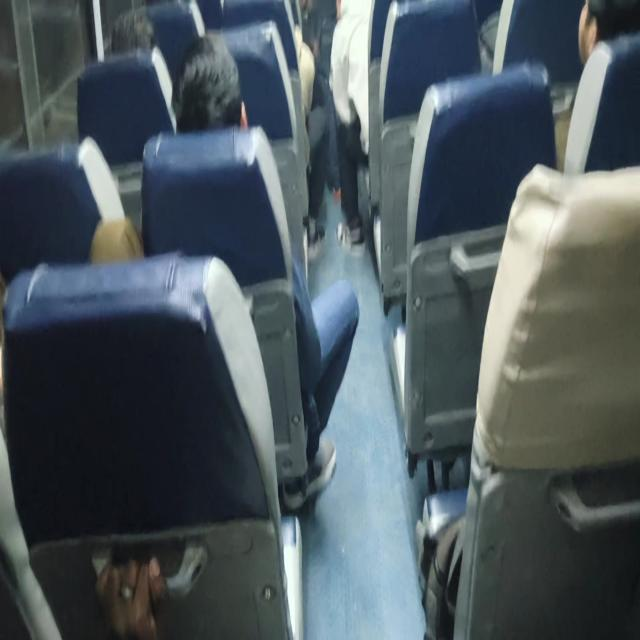person: (180, 44, 249, 122), (561, 0, 640, 67), (110, 17, 158, 55)
